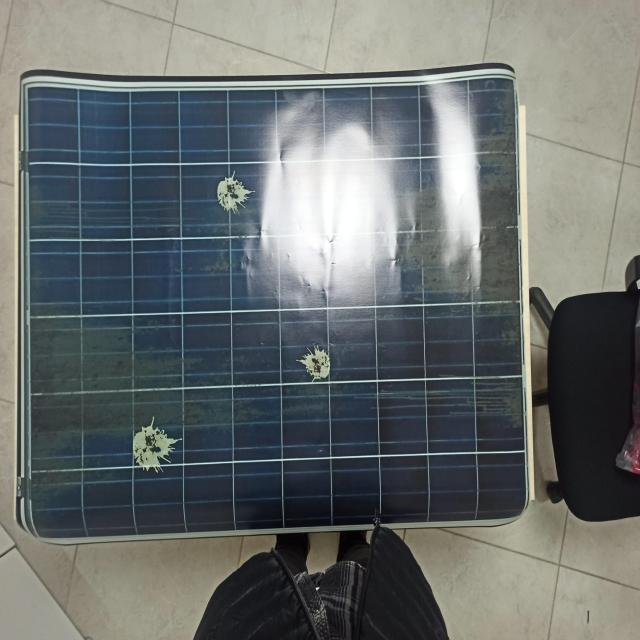faulty: (6, 74, 532, 548)
